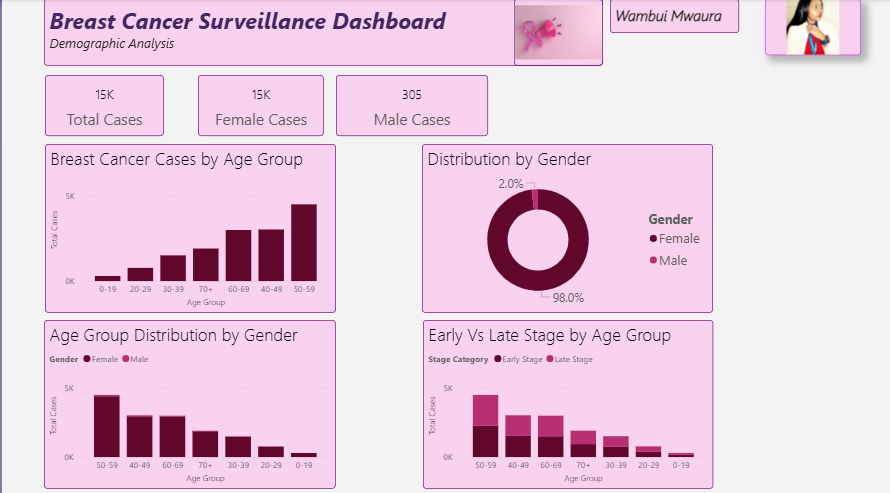

The page's visual inventory and layout, read from the dashboard file:
{"tool":"powerbi","page":{"name":"Demographics Analysis","canvas":[1280,720],"ordinal":5},"visuals":[{"type":"card","fields":{"Values":["Date Table.Total Cases"]},"box":[61.9,109.4,171.4,87.8],"z":0},{"type":"card","fields":{"Values":["Date Table.Female Cases"]},"box":[282.2,109.4,181.4,87.8],"z":1000},{"type":"card","fields":{"Values":["Date Table.Male Cases"]},"box":[481,109.4,218.9,87.8],"z":2000},{"type":"clusteredColumnChart","title":"Breast Cancer  Cases by Age Group","fields":{"Category":["Dim_Patient.Age Group"],"Y":["Date Table.Total Cases"]},"box":[61.9,208.8,419,243.4],"z":3000},{"type":"donutChart","title":"Distribution by Gender","fields":{"Category":["Dim_Patient.Gender"],"Y":["Date Table.Total Cases"]},"box":[604.8,208.8,419,243.4],"z":4000},{"type":"columnChart","title":"Age Group Distribution by Gender","fields":{"Category":["Dim_Patient.Age Group"],"Series":["Dim_Patient.Gender"],"Y":["Date Table.Total Cases"]},"box":[60.5,462.2,420.5,243.4],"z":5000},{"type":"columnChart","title":"Early Vs Late Stage by Age Group","fields":{"Category":["Dim_Patient.Age Group"],"Y":["Date Table.Total Cases"],"Series":["Fact_BreastCancer.Stage Category"]},"box":[606.2,462.2,417.6,243.4],"z":6000},{"type":"textbox","box":[60.5,0,805,96.5],"z":6001},{"type":"image","box":[737.3,0,128.2,96.5],"z":6002},{"type":"textbox","box":[875.5,0,185.8,49],"z":6003},{"type":"image","box":[1098.7,0,138.2,80.6],"z":6004}]}

Visuals, with their boxes in screenshot pixels (x1, y1, x2, y2), scaled from the page's 1280x720 canvas onto the 890x493 screenshot:
card - Date Table.Total Cases: <box>43,75,162,135</box>
card - Date Table.Female Cases: <box>196,75,322,135</box>
card - Date Table.Male Cases: <box>334,75,487,135</box>
"Breast Cancer  Cases by Age Group" clusteredColumnChart: <box>43,143,334,310</box>
"Distribution by Gender" donutChart: <box>421,143,712,310</box>
"Age Group Distribution by Gender" columnChart: <box>42,316,334,483</box>
"Early Vs Late Stage by Age Group" columnChart: <box>421,316,712,483</box>
textbox: <box>42,0,602,66</box>
image: <box>513,0,602,66</box>
textbox: <box>609,0,738,34</box>
image: <box>764,0,860,55</box>
